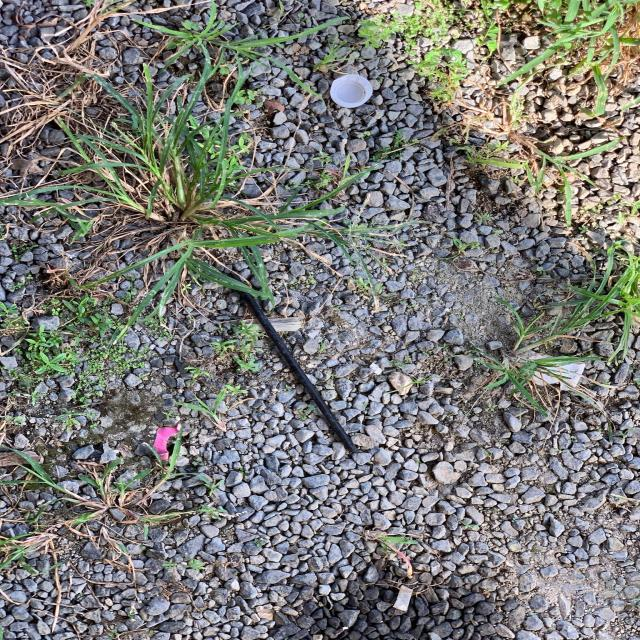litter: (230, 274, 357, 454), (529, 355, 587, 392), (331, 74, 373, 108), (153, 427, 180, 462), (395, 586, 413, 612)
